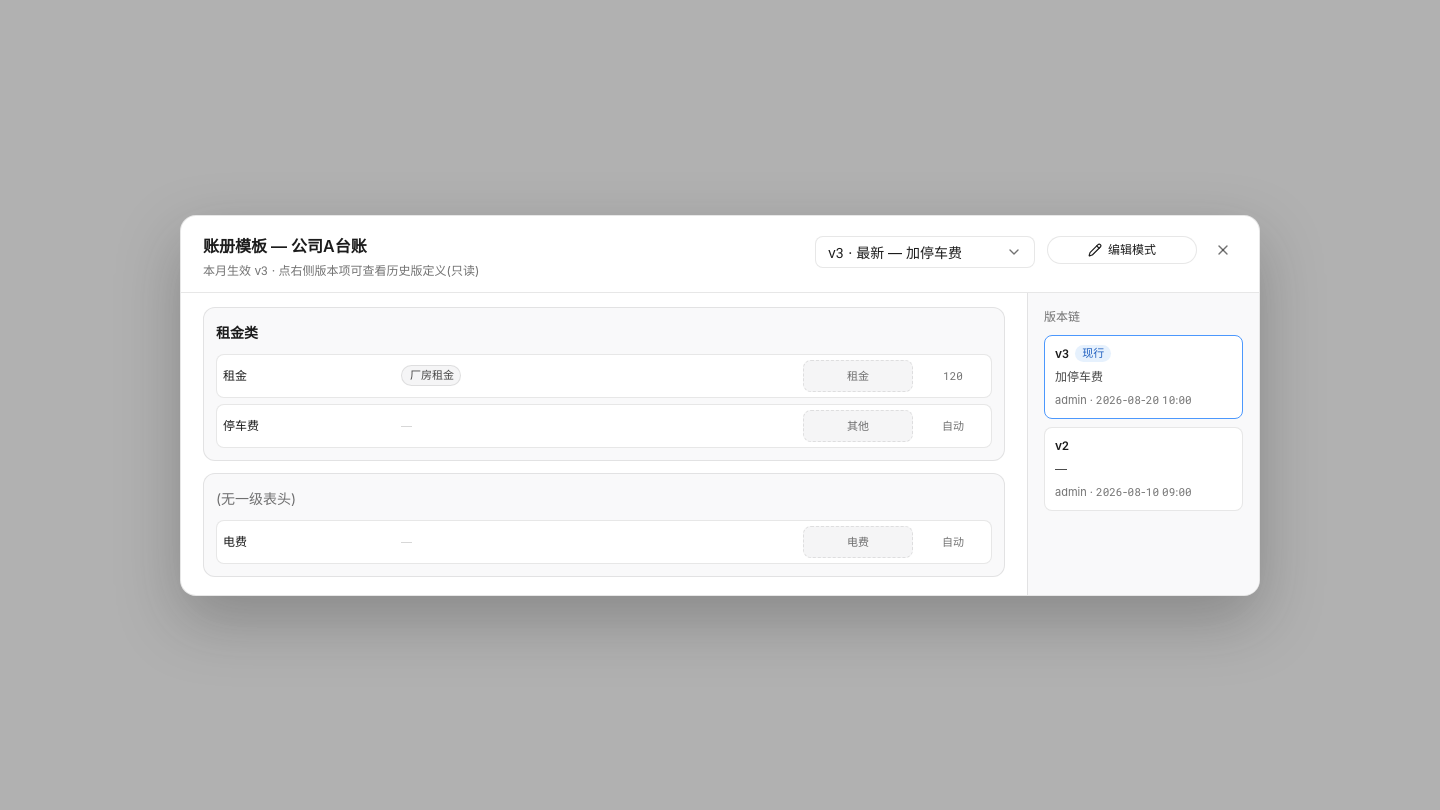
it: TemplateEditorPanel · 双模式 › 点「编辑模式」进入编辑态(控件齐),「完成」退回只读
Step 1. Click the button with class "te-editbtn" → (1122, 250), box [1047,236,1197,264]
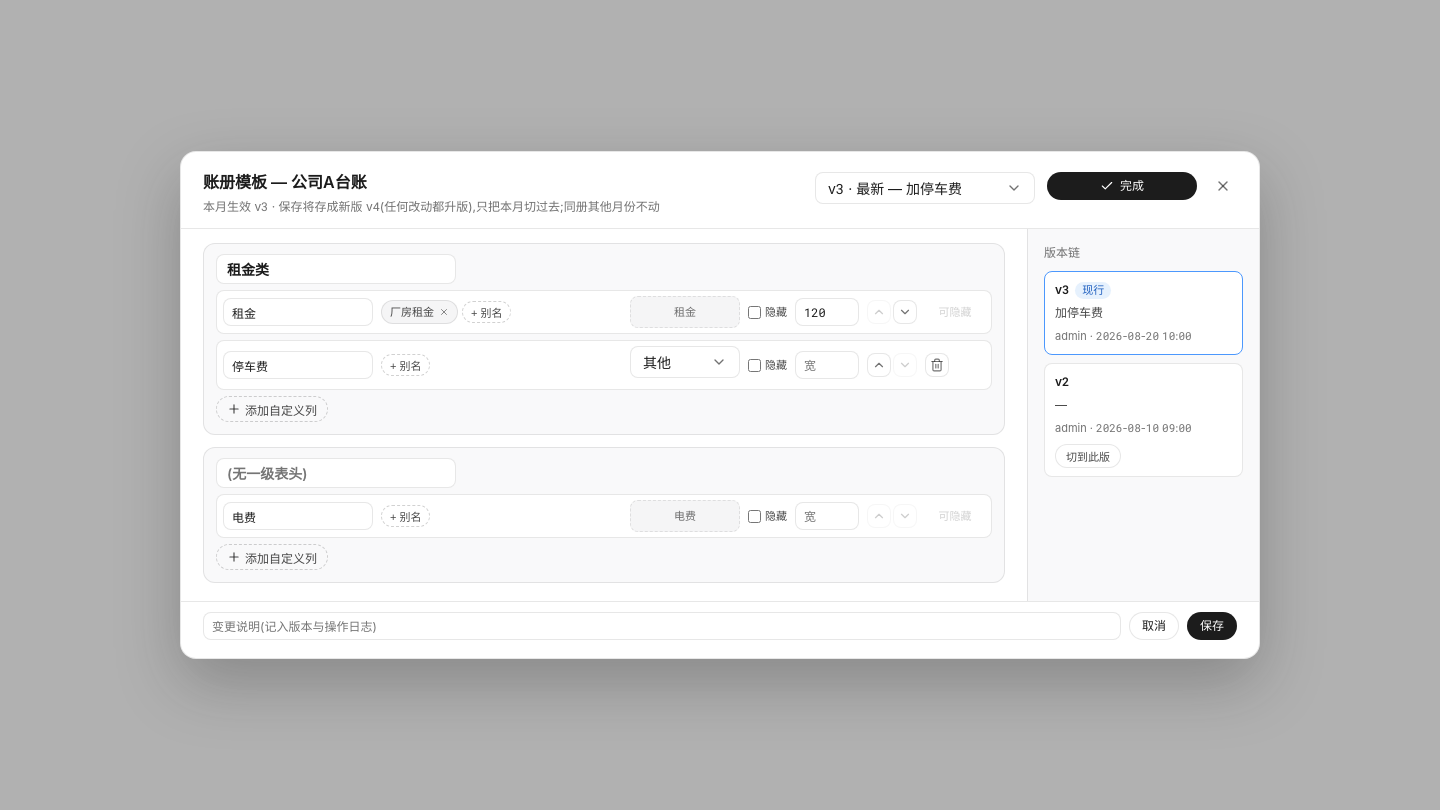
Expected: the field with class "te-name" next to "厂房租金" is shown, [223,298,373,326]
Expected: the button with class "te-save" is shown, [1187,612,1237,640]
Expected: the button with class "te-adopt" is shown, [1055,444,1121,468]
Step 2. Click the button with class "te-donebtn" → (1122, 186), box [1047,172,1197,200]
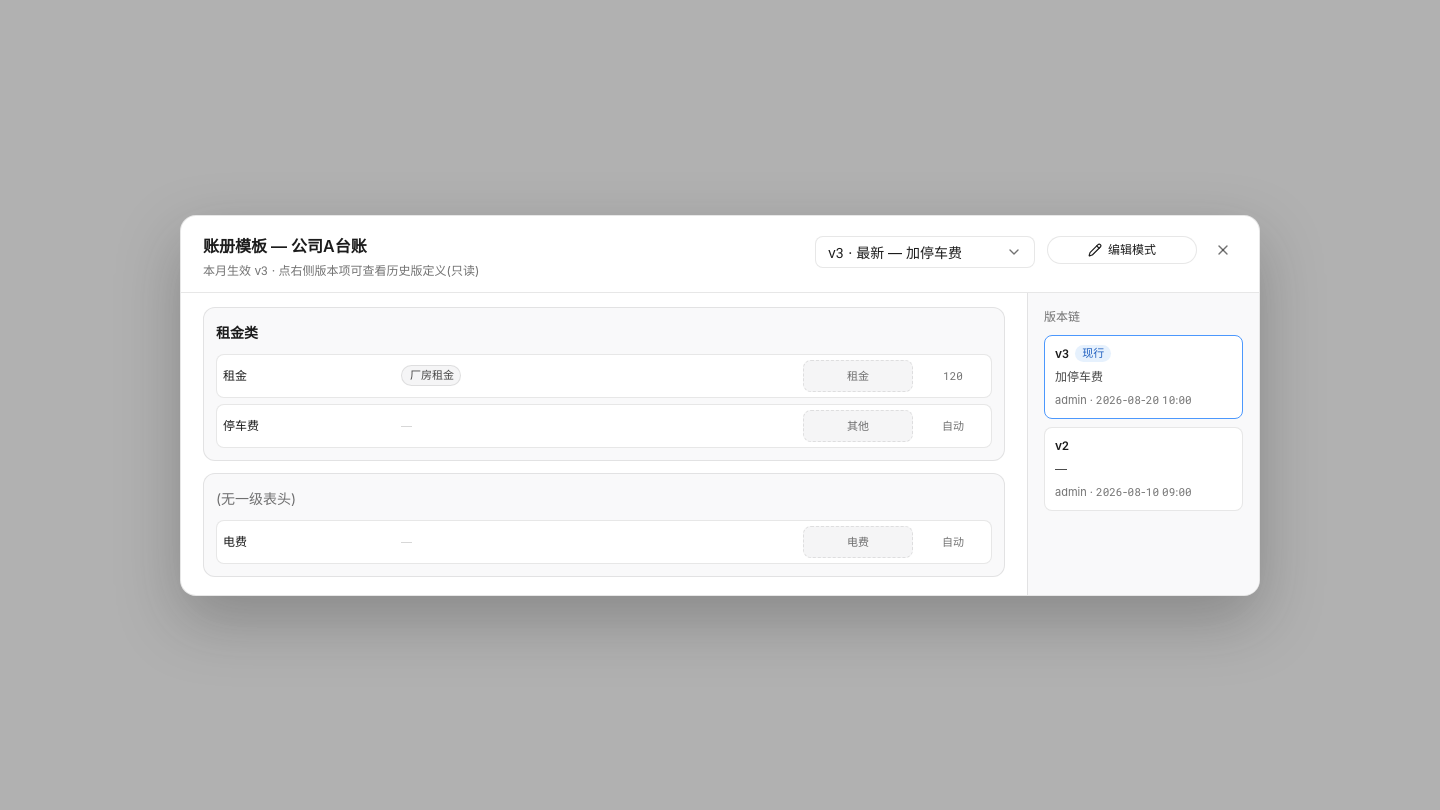
Expected: the button with class "te-editbtn" is shown, [1047,236,1197,264]
